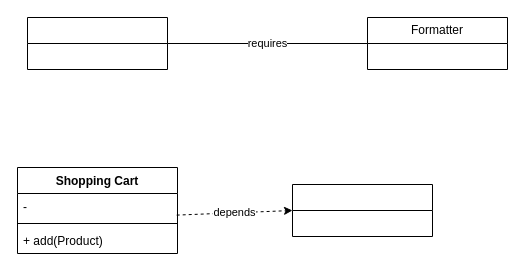
Some shapes in this 525 by 274 pixel diagram are drawn without their labels. The shapes that lost their labels are listed below. From the top down, each one's box as (x1, y1, x2, y2) in pixels, then its label:
(26, 16, 168, 70): Report Generator
(292, 184, 432, 236): Product
